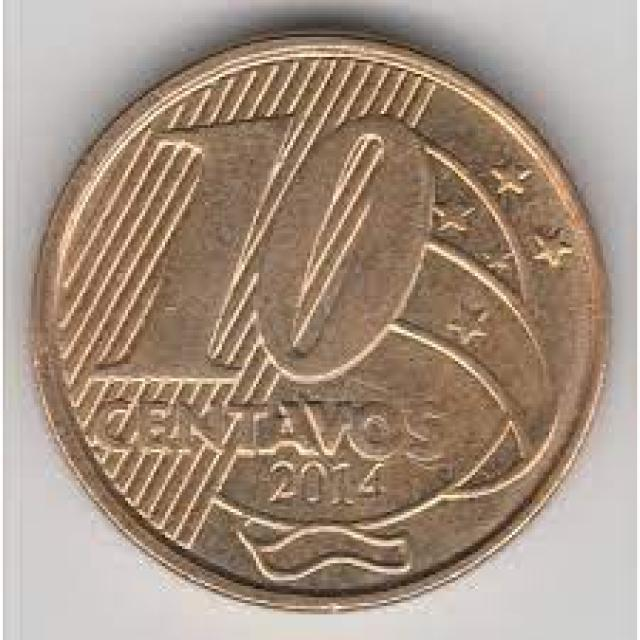10 cent: (43, 37, 604, 611)
